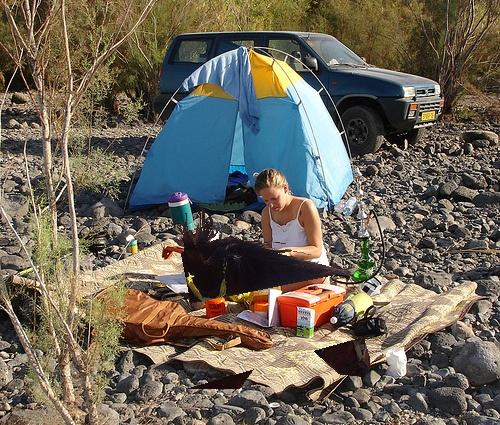tampered: (174, 203, 370, 389)
